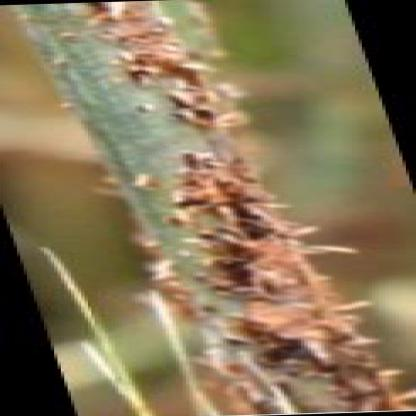wheat Stem Rust: (228, 345, 403, 410), (180, 257, 325, 298), (211, 302, 356, 342), (160, 214, 301, 251), (172, 153, 254, 207), (90, 6, 172, 56), (118, 62, 195, 90), (160, 100, 217, 122)
